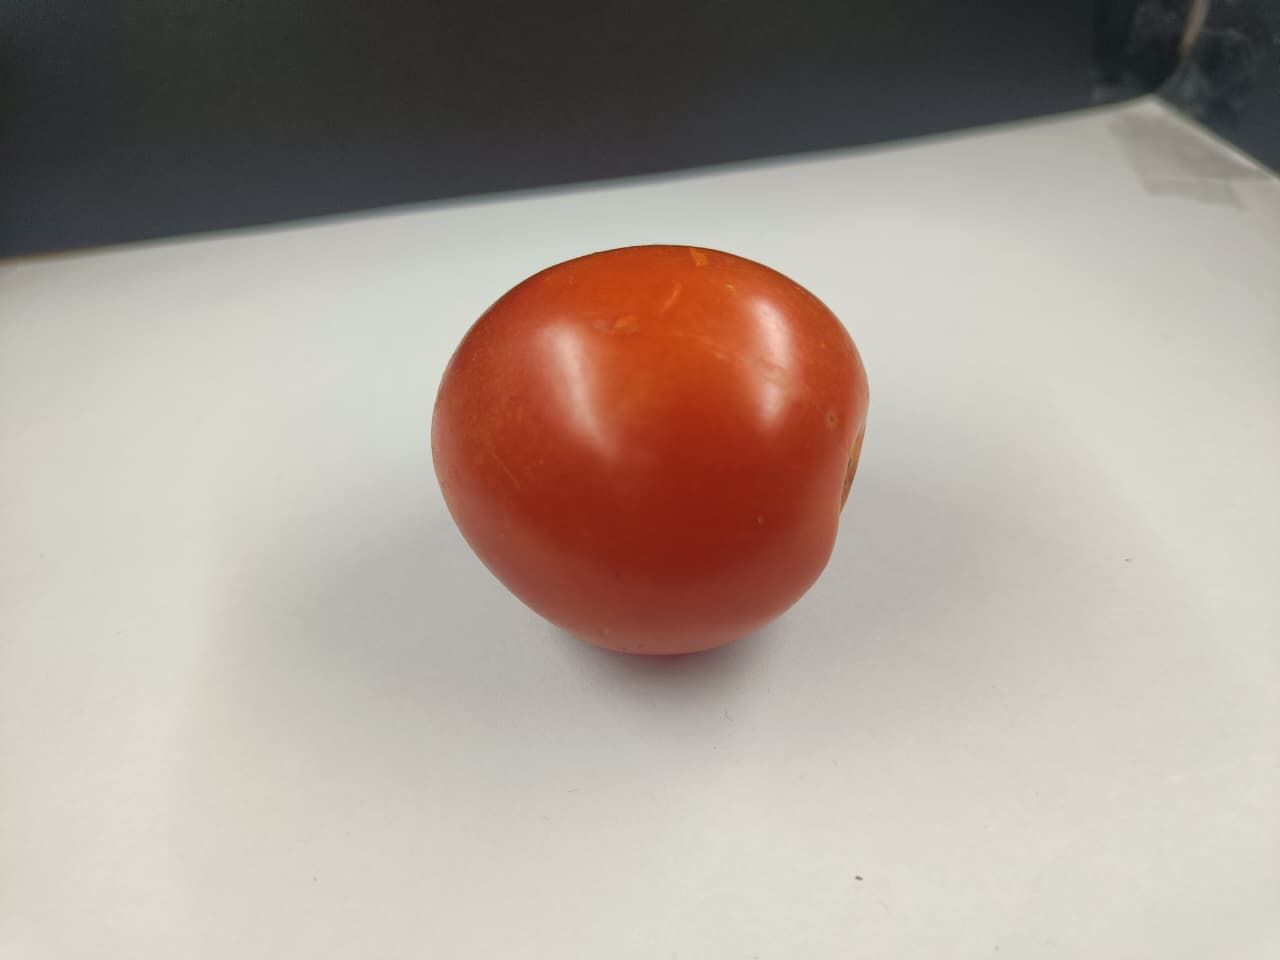ripe: (402, 243, 938, 654)
